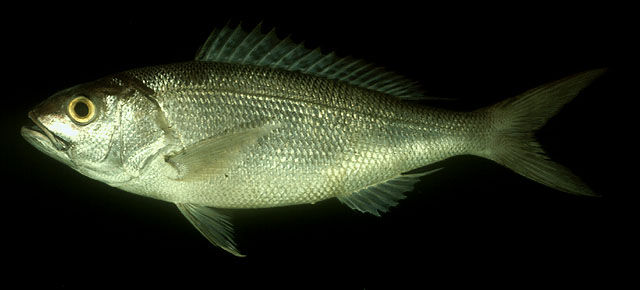fish: (21, 28, 593, 258)
